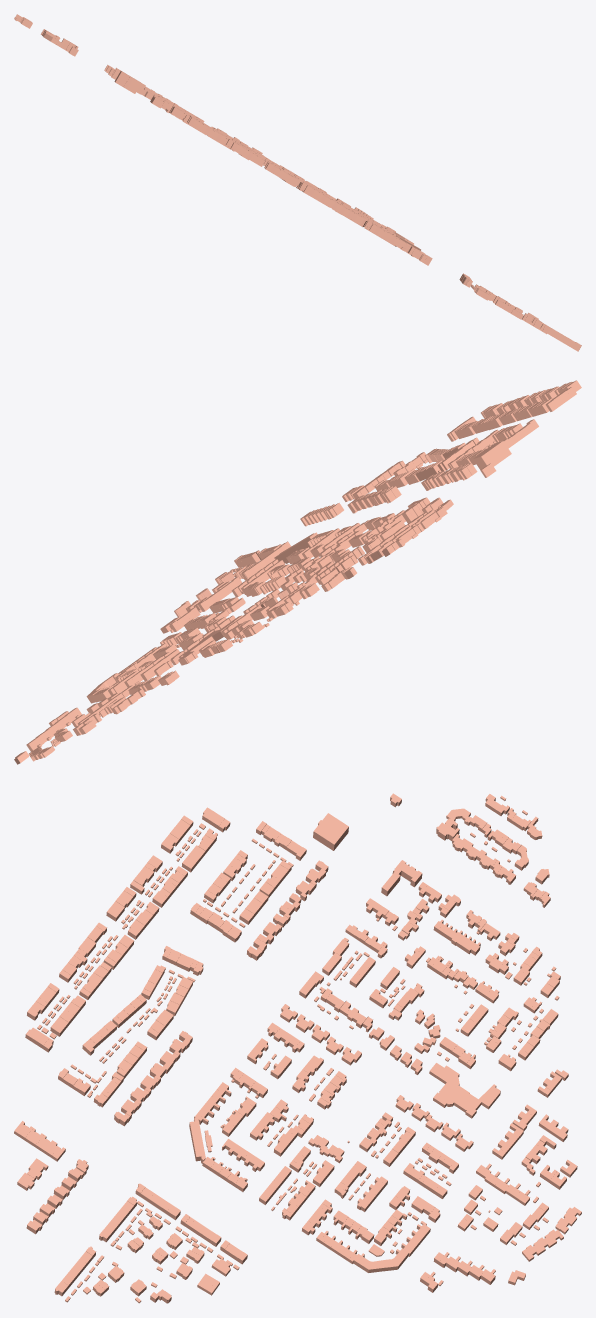
3 views of the same model, one above another, from view 1: azimuth 30°, elevation 25°; view 2: azimuth 150°, elevation 25°; view 3: azimuth 270°, elevation 25° (orthographic). The views are drawn at different scales.
Bounding box in the file's own units: 516 × 384 × 621.
